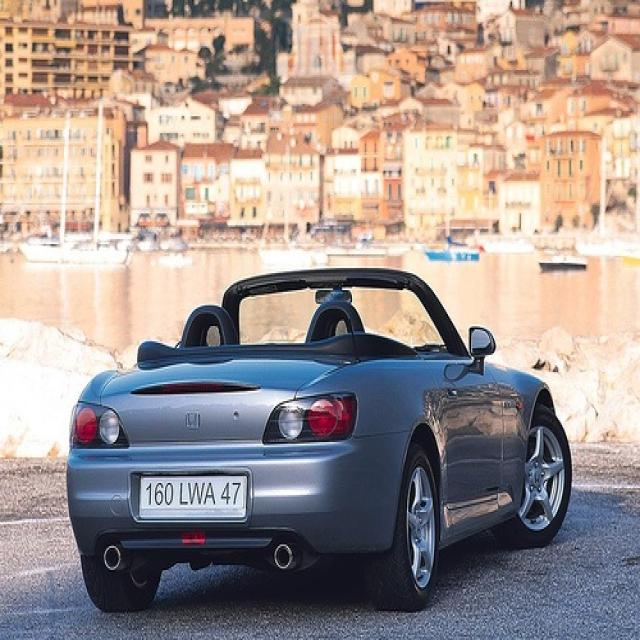boat: (18, 103, 125, 264), (257, 140, 329, 271), (424, 186, 475, 259), (540, 251, 589, 276)
car: (67, 266, 572, 611)
